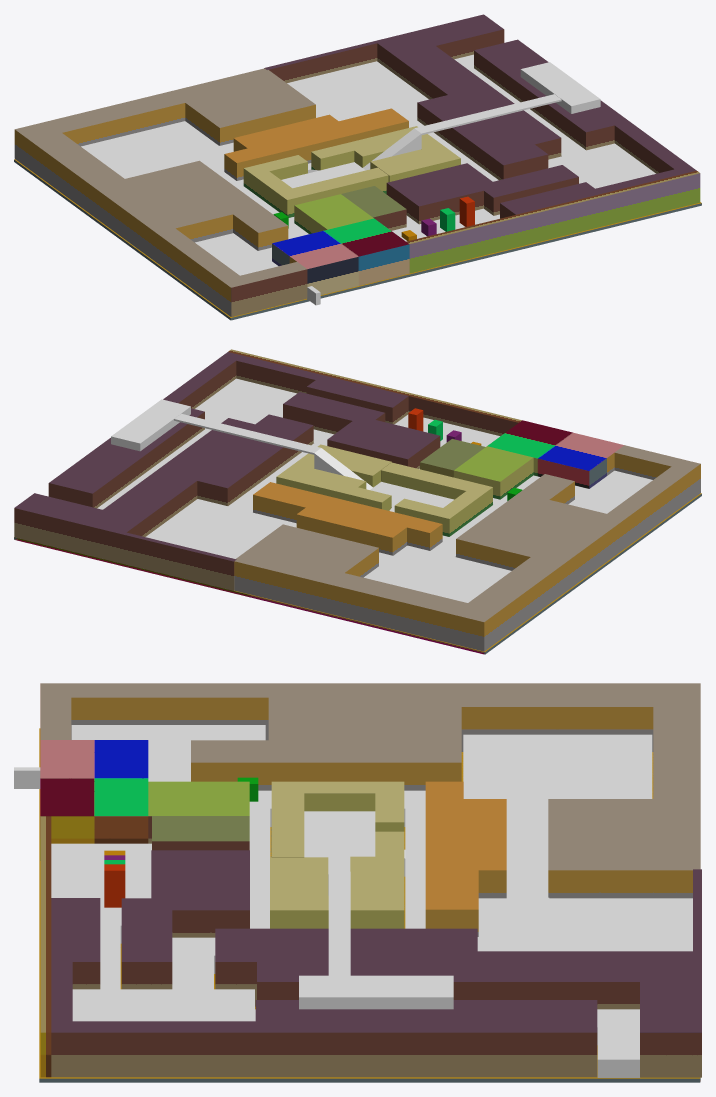
The model's file is room1.fbx.
3 renders of one model, top to bottom at view 1: azimuth 30°, elevation 25°; view 2: azimuth 150°, elevation 25°; view 3: azimuth 270°, elevation 25°, orthographic. The views are drawn at different scales.
Parts seen in each view (by area): view 1: walls.004, path.001, ground; view 2: walls.004, path.001, ground, ground.006; view 3: walls.004, path.001, ground.
Boxes of the visible parts, x1,y1,x2,y2 form: walls.004: (14,14,700,316); path.001: (81,54,655,303); ground: (14,159,701,320); walls.004: (14,349,700,651); path.001: (97,378,652,602); ground: (14,408,701,654); ground.006: (15,537,484,654); walls.004: (40,683,701,1077); path.001: (14,725,692,1077); ground: (39,728,700,1082).
Bounding box in the file's own units: 39973 × 33157 × 3891.
